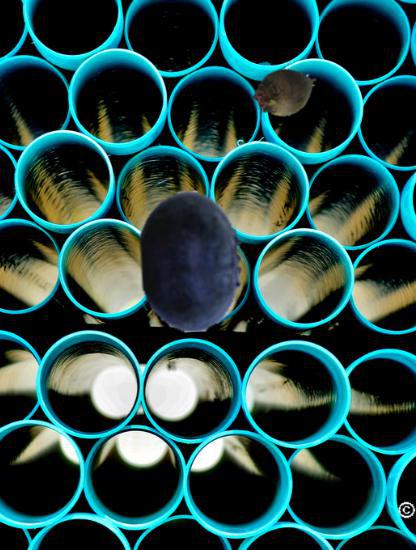Beetroot: (249, 57, 320, 128)
Blueberry: (121, 191, 263, 333)
